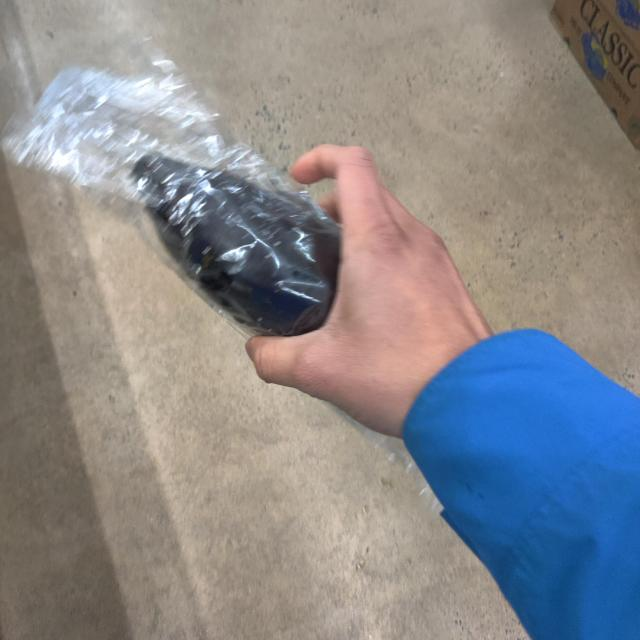Eggplant: (131, 155, 345, 338)
